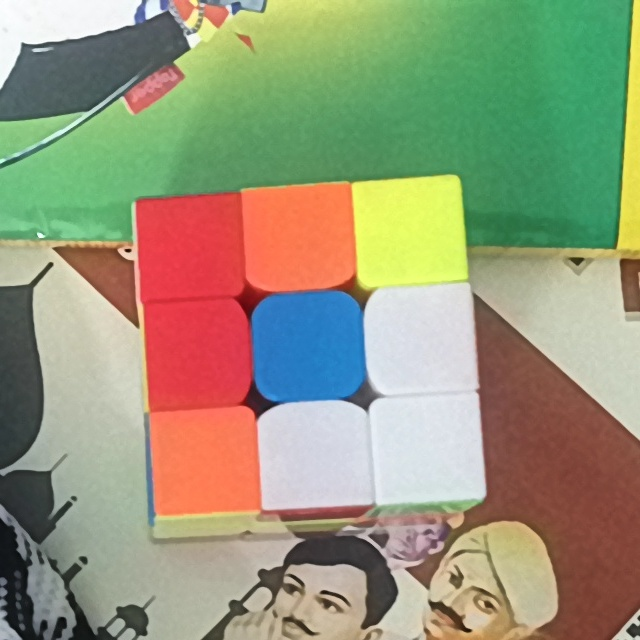tile: (381, 402, 477, 493), (366, 184, 456, 279), (249, 193, 348, 279), (271, 409, 365, 499), (159, 415, 252, 505), (144, 202, 236, 292), (153, 308, 242, 400), (263, 304, 353, 393), (383, 294, 472, 382)
